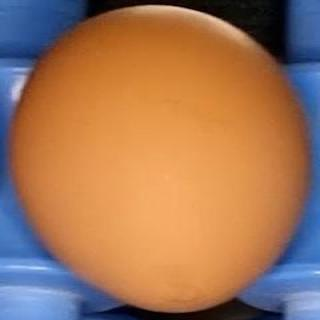Telur: (6, 5, 308, 314)
